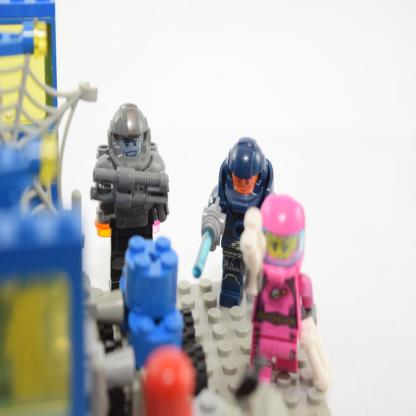Helmet: (252, 192, 310, 284), (132, 346, 202, 416), (221, 133, 274, 221), (108, 99, 153, 171)
